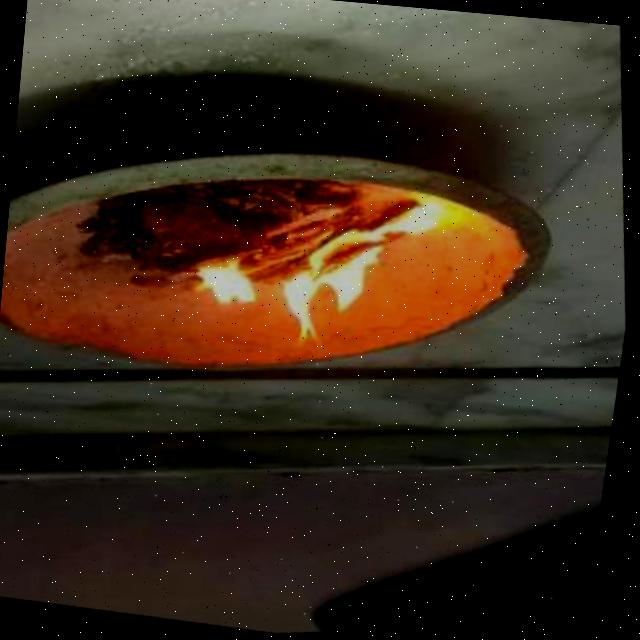fire: (276, 233, 404, 363), (190, 246, 276, 337), (373, 190, 468, 256)
